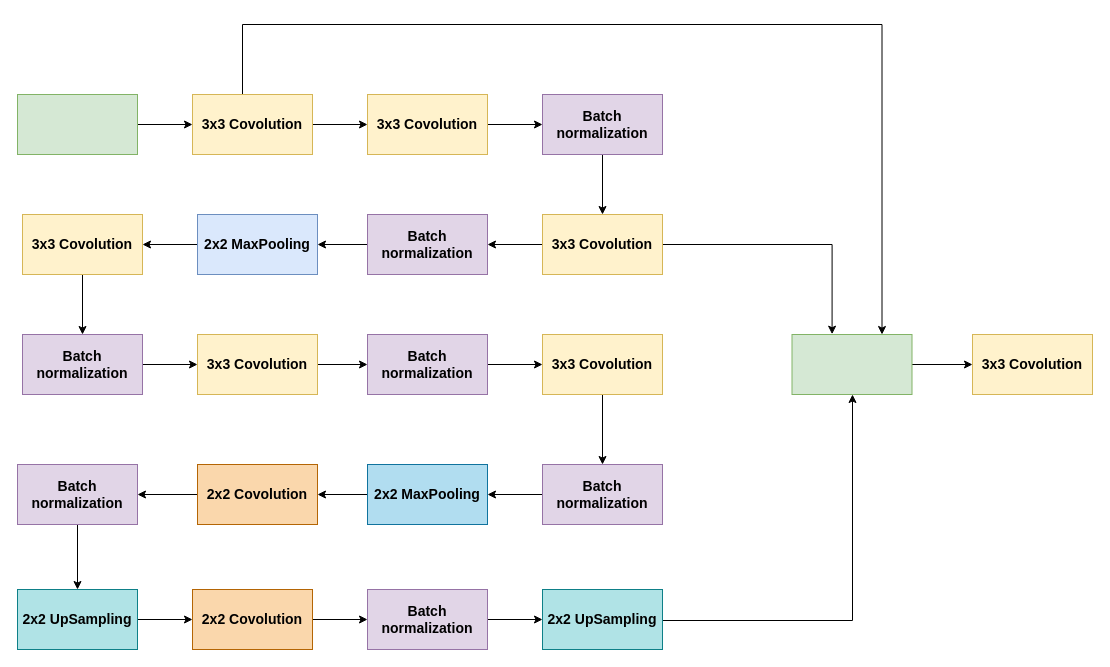
Image size: 1110x667. Some labels were removed from this diagram. The shapes that lost their labels are listed below. From the top down, each one's centre as x and y in pixels, then its label:
At point 77,124: "Baseline input".
At point 851,364: "Filter concatenation".
